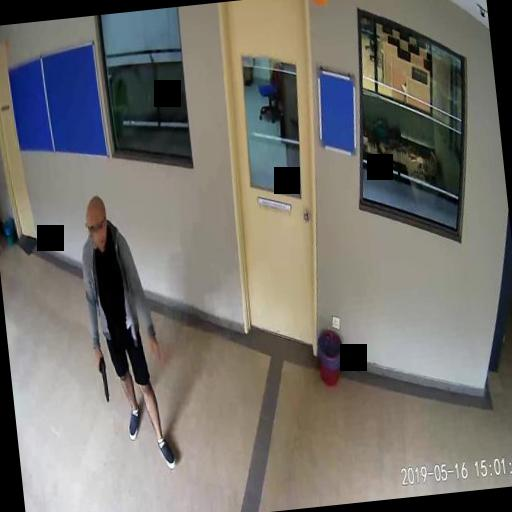Handgun: (94, 352, 110, 402)
